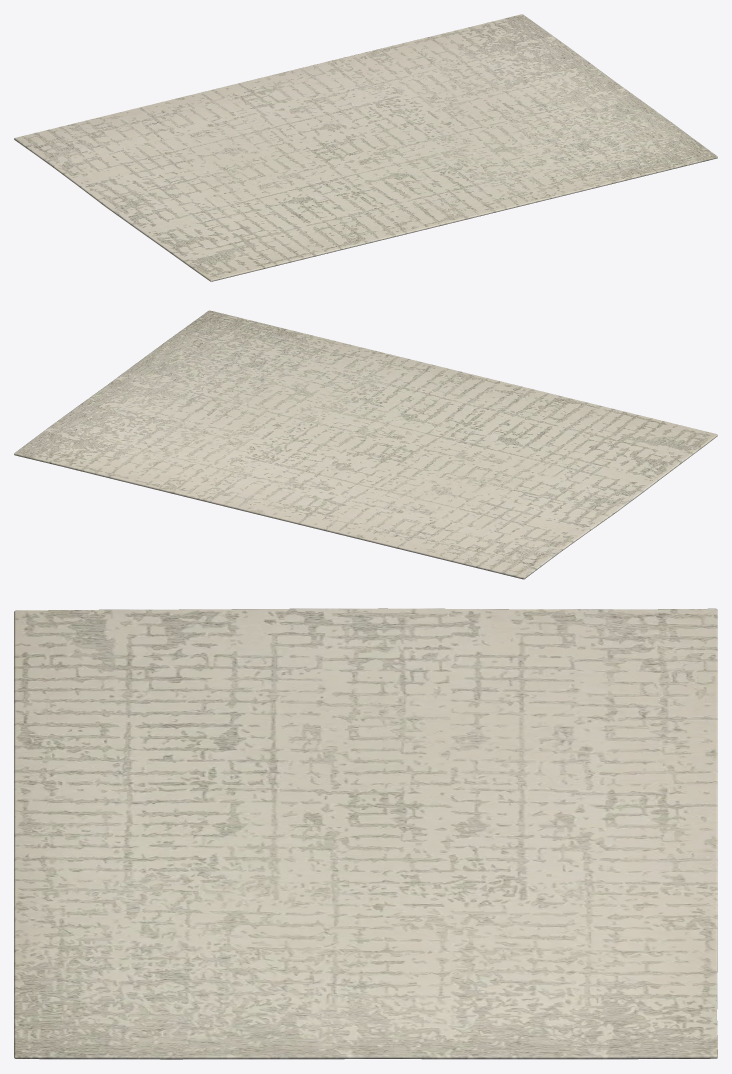
Rendered from B0735RJPDH.glb.
3 renders of one model, top to bottom at view 1: azimuth 30°, elevation 25°; view 2: azimuth 150°, elevation 25°; view 3: azimuth 270°, elevation 25°, orthographic. The views are drawn at different scales.
Visible parts, largest first — view 1: RootNode; view 2: RootNode; view 3: RootNode.
Boxes of the visible parts, box(x1,y1,x2,y2) form: RootNode: box(14, 14, 717, 281); RootNode: box(14, 310, 717, 579); RootNode: box(14, 608, 717, 1059).
Bounding box in the file's own units: 2.46 × 0.00962 × 1.63.
Materials: 1 (1 with a texture image).
